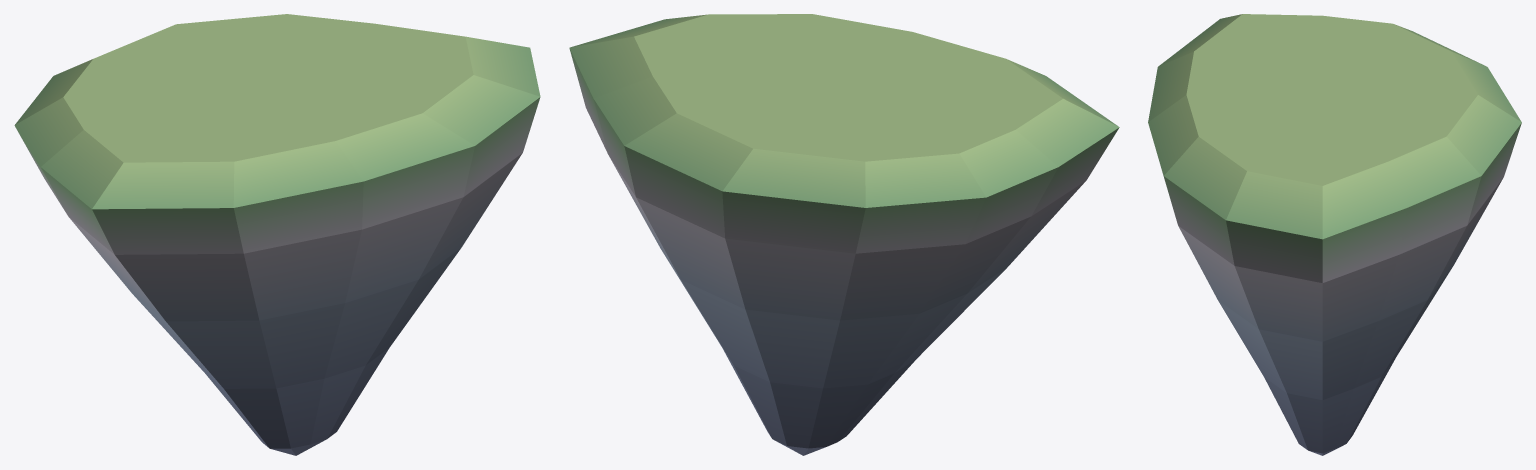
The model's file is Sky_Floating_Garden_Islet.glb.
3 renders of one model, left to right at view 1: azimuth 30°, elevation 25°; view 2: azimuth 150°, elevation 25°; view 3: azimuth 270°, elevation 25°, orthographic. The views are drawn at different scales.
Visible parts, largest first — view 1: Sky_Floating_Garden_Islet; view 2: Sky_Floating_Garden_Islet; view 3: Sky_Floating_Garden_Islet.
Boxes of the visible parts, x1=… form: Sky_Floating_Garden_Islet: x1=14, y1=14, x2=540, y2=455; Sky_Floating_Garden_Islet: x1=569, y1=14, x2=1119, y2=455; Sky_Floating_Garden_Islet: x1=1148, y1=14, x2=1521, y2=455.
Bounding box in the file's own units: 2.12 × 1.55 × 1.52.
